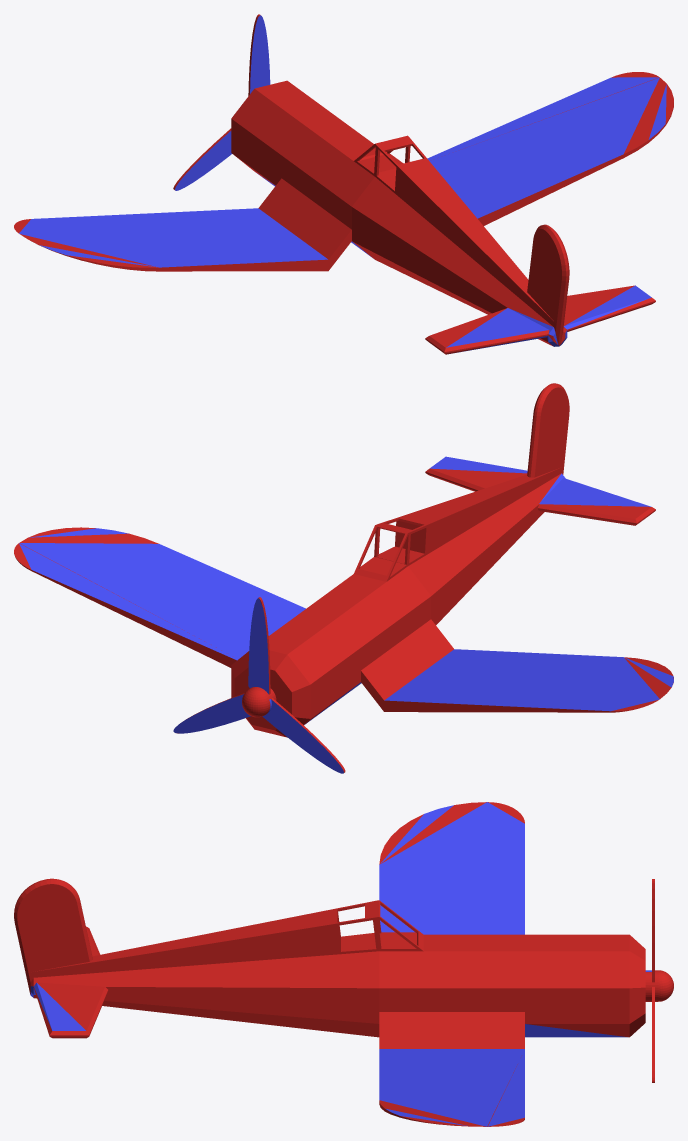
The picture shows the model from 3 angles, top to bottom: view 1: azimuth 30°, elevation 25°; view 2: azimuth 150°, elevation 25°; view 3: azimuth 270°, elevation 25°; orthographic projection. The views are drawn at different scales.
Parts seen in each view (by area): view 1: avion tomloup; view 2: avion tomloup; view 3: avion tomloup.
Boxes of the visible parts, x1=… form: avion tomloup: x1=14, y1=14, x2=673, y2=354; avion tomloup: x1=14, y1=383, x2=673, y2=773; avion tomloup: x1=14, y1=802, x2=673, y2=1126.
Size of the model in its own units: 103 by 23.74 by 88.12.
